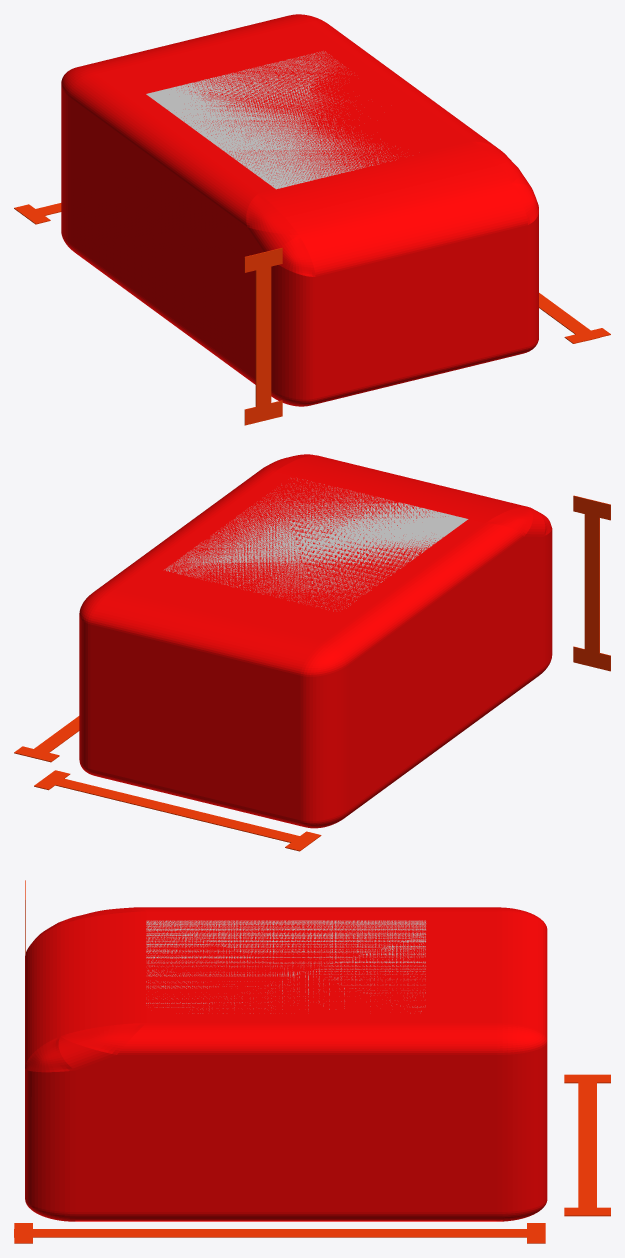
The model's file is duffel_red.obj.
The picture shows the model from 3 angles, top to bottom: view 1: azimuth 30°, elevation 25°; view 2: azimuth 150°, elevation 25°; view 3: azimuth 270°, elevation 25°; orthographic projection. The views are drawn at different scales.
Visible parts, largest first — view 1: Cube, newLogo_white, ruler_x_Plane.005, ruler_z_Plane.002, ruler_y_Plane.007; view 2: Cube, newLogo_white, ruler_x_Plane.005, ruler_y_Plane.007, ruler_z_Plane.002; view 3: Cube, newLogo_white, ruler_z_Plane.002, ruler_y_Plane.007.
Part boxes in pixels (x1,y1,x2,y2): Cube: [61, 14, 538, 406]; newLogo_white: [146, 51, 396, 189]; ruler_x_Plane.005: [244, 248, 282, 425]; ruler_z_Plane.002: [539, 293, 610, 343]; ruler_y_Plane.007: [14, 203, 61, 224]; Cube: [79, 454, 552, 828]; newLogo_white: [164, 478, 468, 611]; ruler_x_Plane.005: [573, 495, 610, 671]; ruler_y_Plane.007: [34, 770, 321, 851]; ruler_z_Plane.002: [14, 716, 79, 762]; Cube: [25, 907, 547, 1221]; newLogo_white: [146, 920, 426, 1013]; ruler_z_Plane.002: [14, 1223, 545, 1243]; ruler_y_Plane.007: [564, 1074, 610, 1216].
Size of the model in its own units: 0.48 by 0.23 by 0.64.
